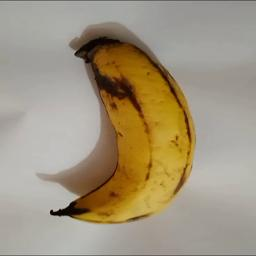Banana Semifresh: (44, 36, 198, 226)
